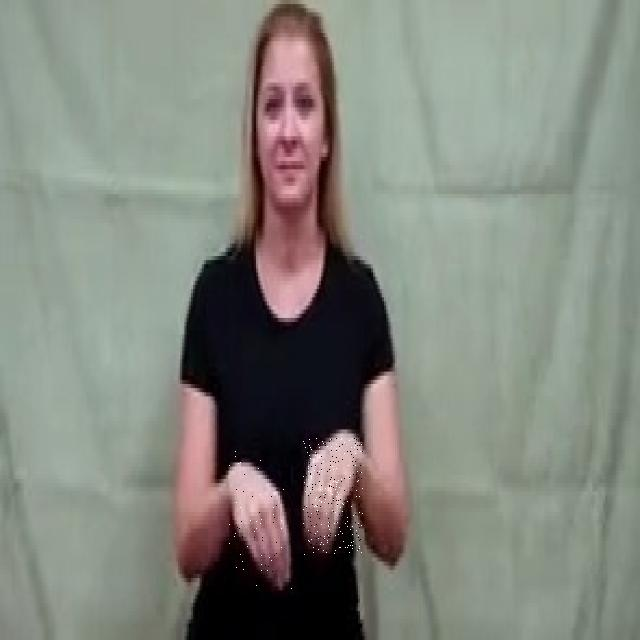ingredients: (230, 448, 298, 592), (303, 438, 363, 555)
